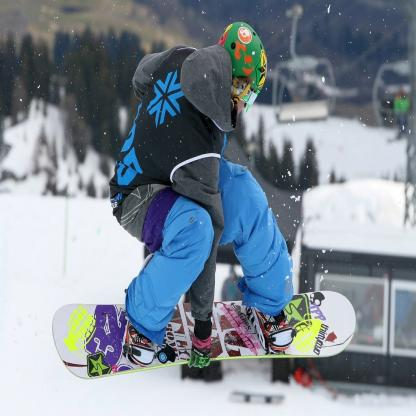Helmet: (216, 24, 270, 120)
